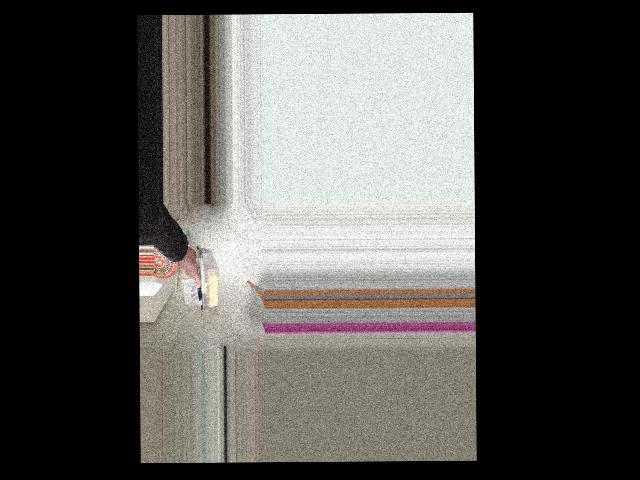cheese: (167, 235, 235, 305)
